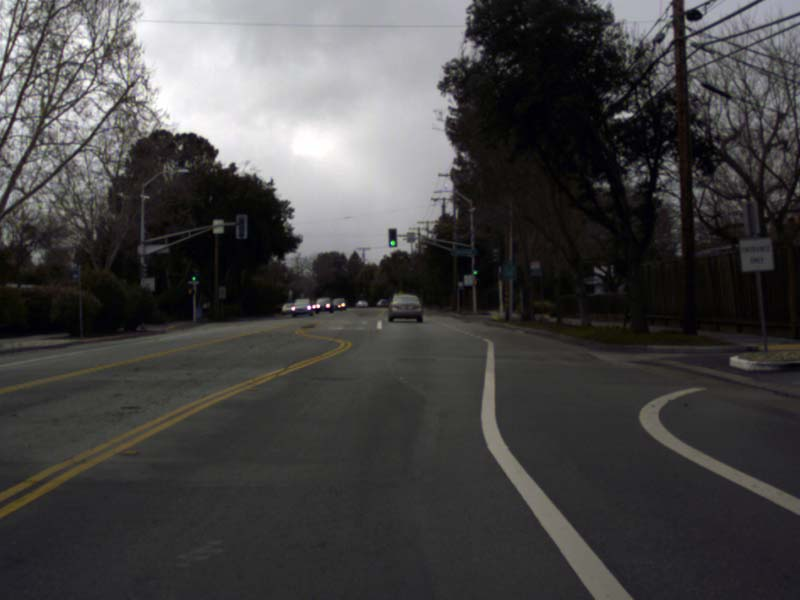Green: (387, 227, 397, 247), (190, 269, 199, 285), (472, 268, 480, 285)
